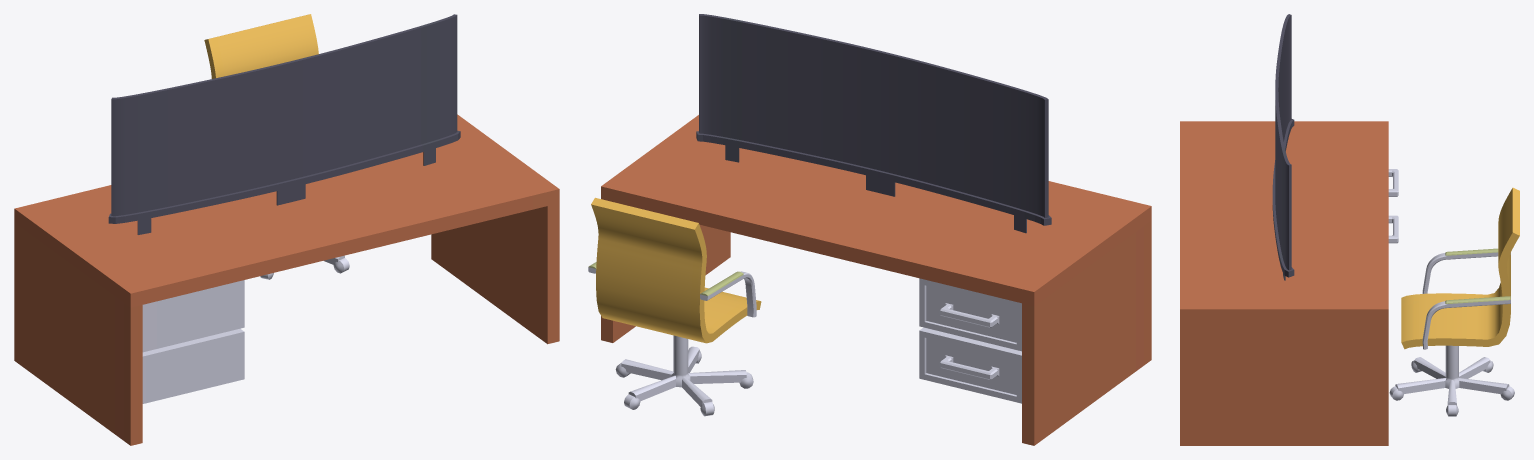
File: obj_desk_2x1.FBX
3 renders of one model, left to right at view 1: azimuth 30°, elevation 25°; view 2: azimuth 150°, elevation 25°; view 3: azimuth 270°, elevation 25°, orthographic. The views are drawn at different scales.
Visible parts, largest first — view 1: Ellipse001, Cylinder001; view 2: Ellipse001, Cylinder001; view 3: Ellipse001, Cylinder001.
Part boxes in pixels (x1,y1,x2,y2): Ellipse001: (14, 14, 559, 445); Cylinder001: (204, 14, 349, 279); Ellipse001: (601, 14, 1151, 445); Cylinder001: (588, 197, 761, 416); Ellipse001: (1180, 14, 1398, 445); Cylinder001: (1389, 187, 1519, 416).
Bounding box in the file's own units: 1.77 × 1.15 × 1.36.
Materials: 1 (1 with a texture image).
